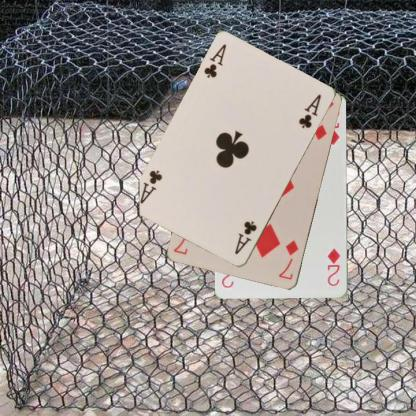2d: (325, 246, 342, 288)
7d: (276, 238, 300, 281)
Ac: (201, 42, 228, 80), (232, 218, 258, 256)
